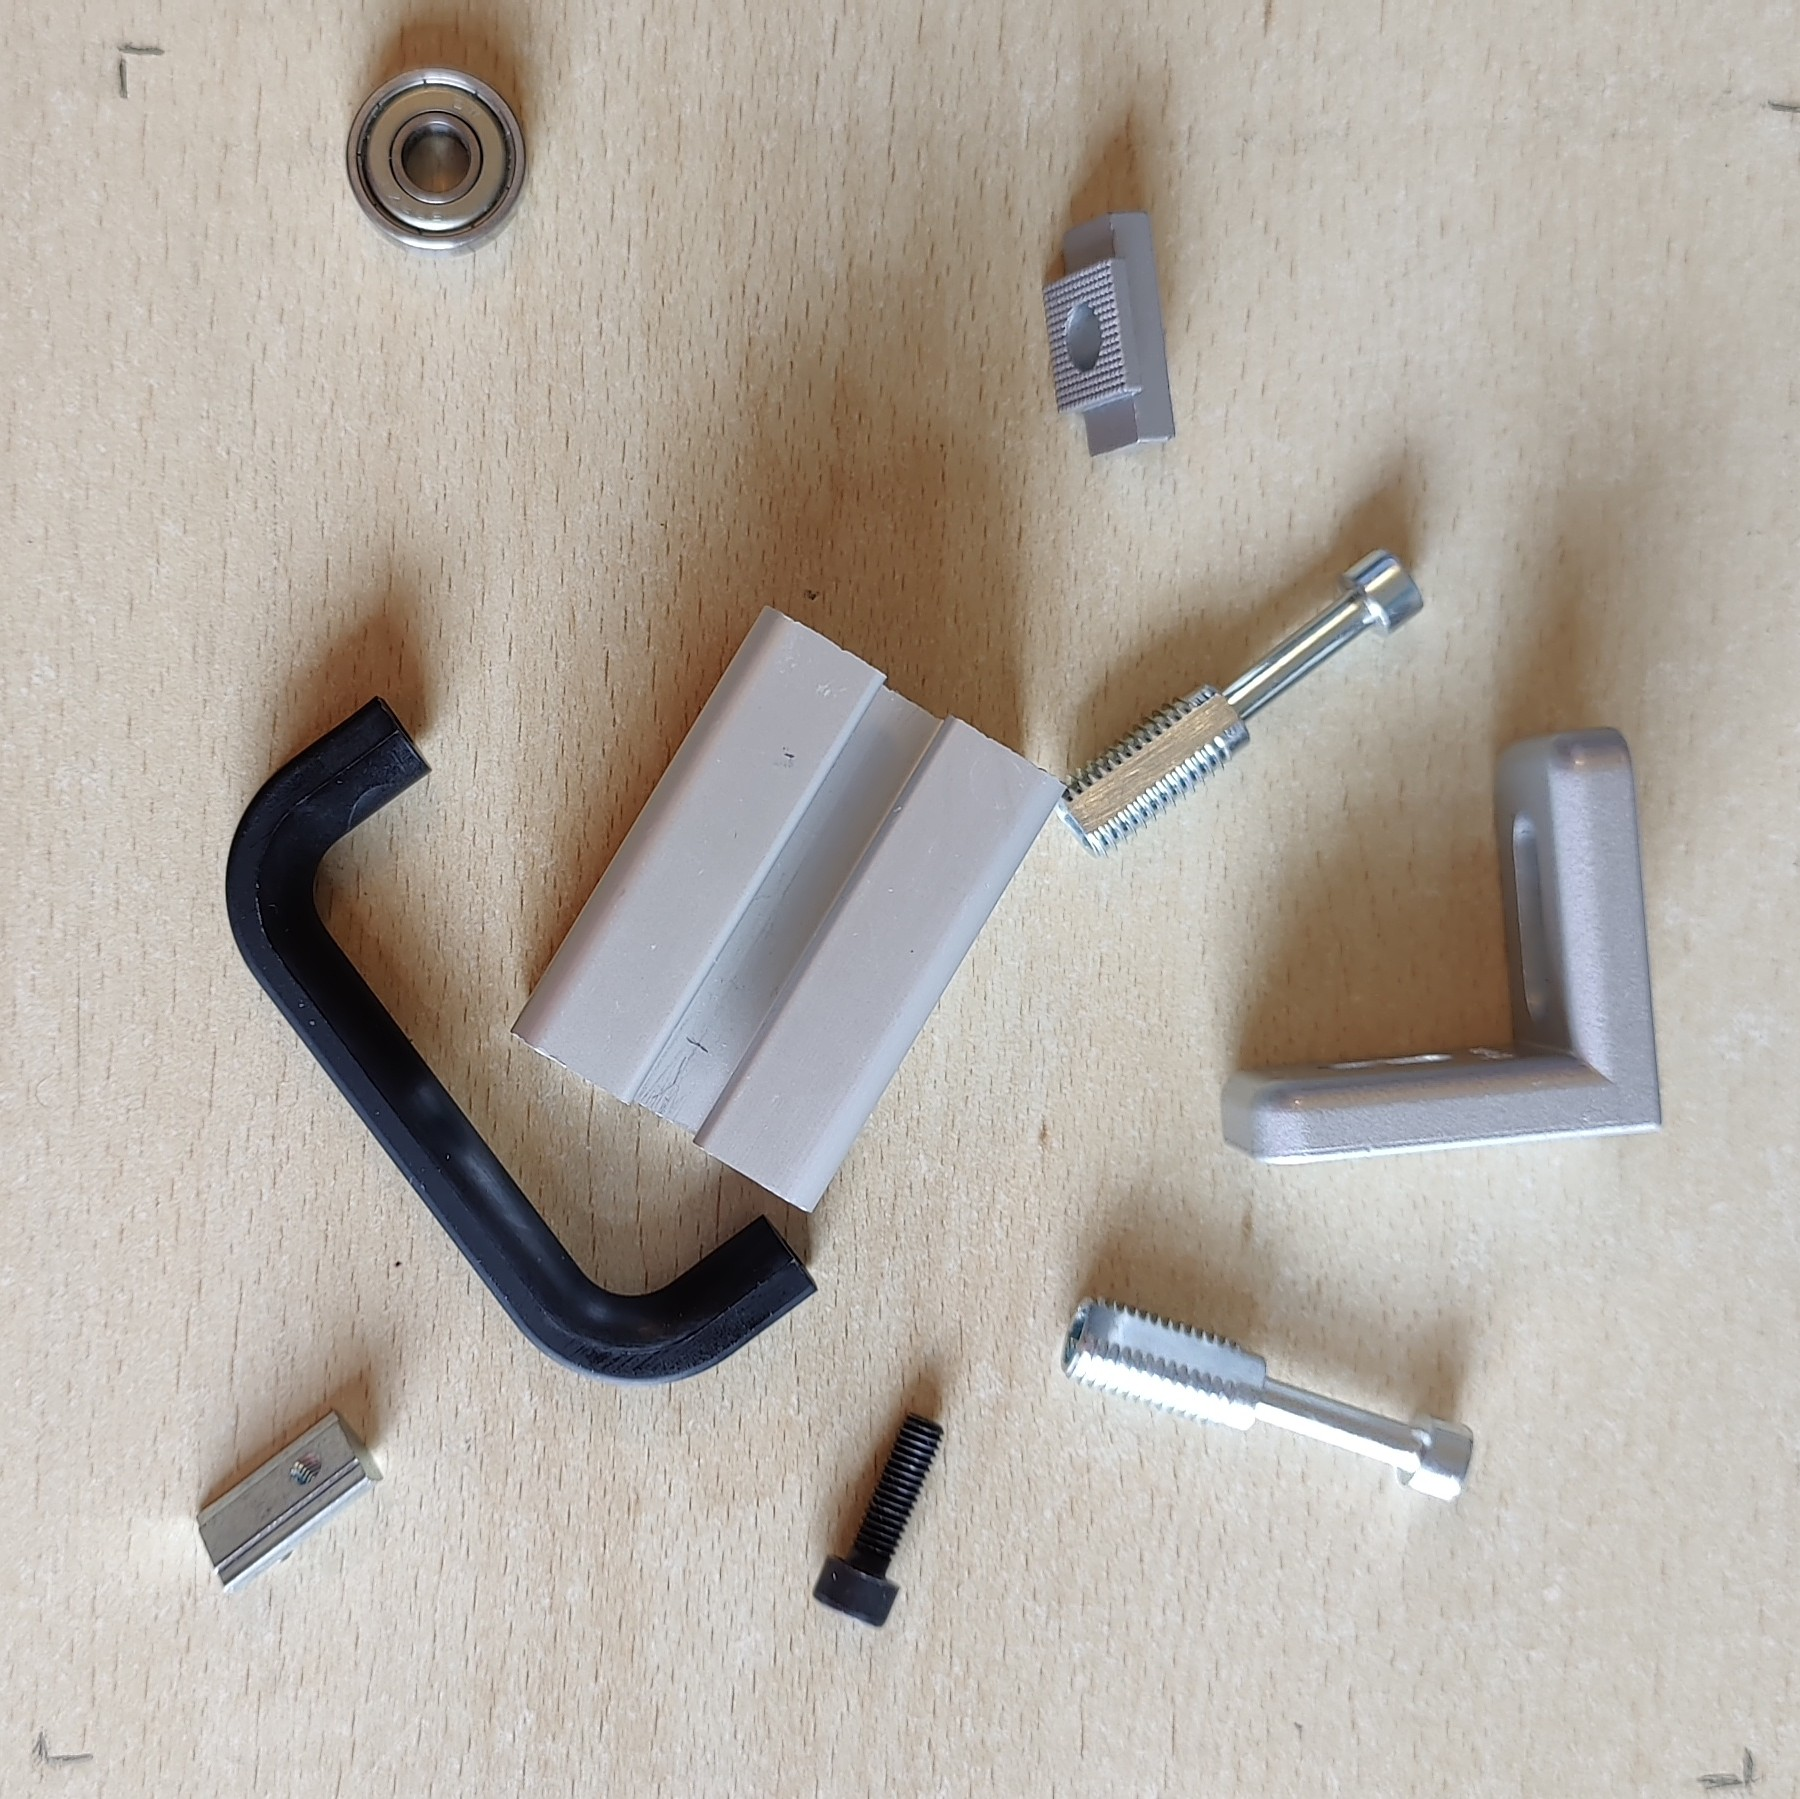Aluminium Extension: (509, 600, 1070, 1219)
Ball Bearing: (344, 63, 534, 260)
Multiwinkel: (1217, 722, 1668, 1166)
Pull Handle: (221, 690, 820, 1390)
Shoulder Socket Head Cap Screw: (1054, 545, 1428, 862), (1054, 1288, 1477, 1507)
Socket Head Cap Screw: (805, 1405, 947, 1633)
T Nut Square: (1039, 208, 1179, 463)
T Spring Nut: (194, 1404, 389, 1598)
